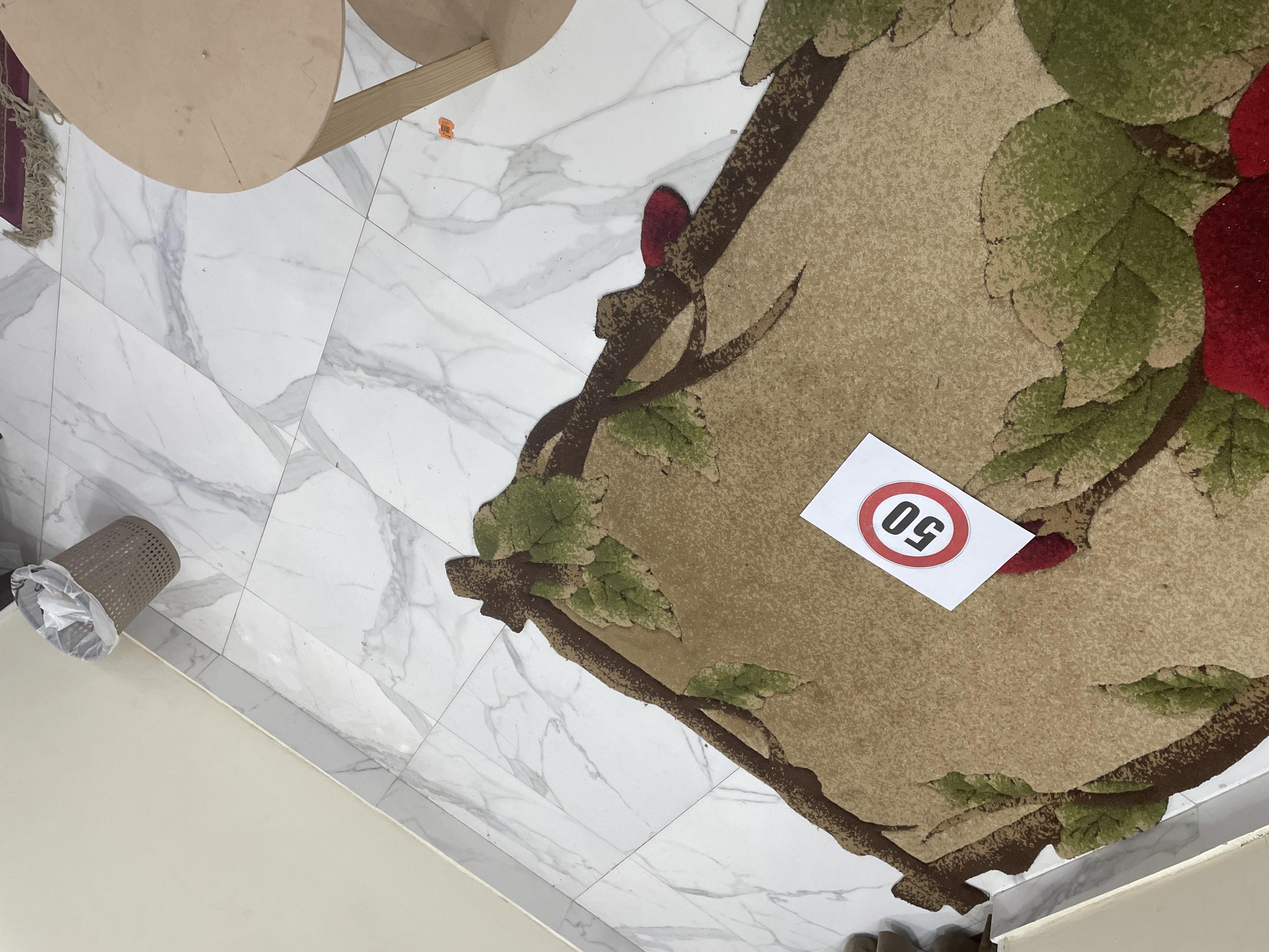50-Speed: (506, 642, 630, 728)
